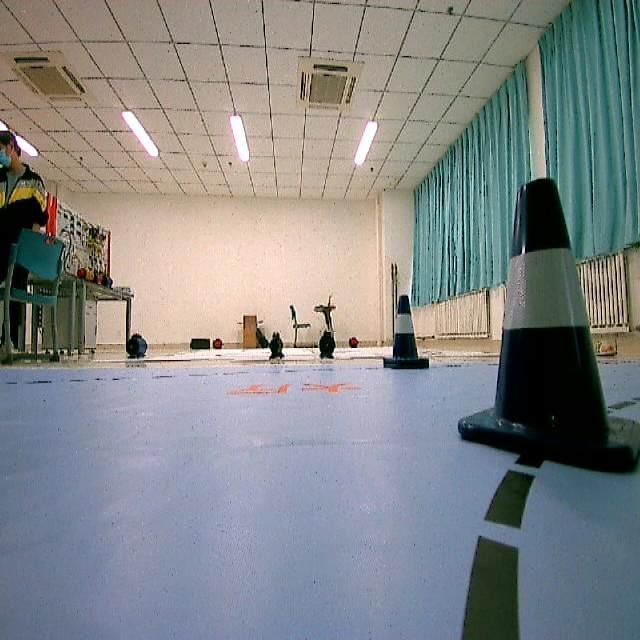obstacle: (448, 174, 640, 486), (380, 290, 432, 382)
